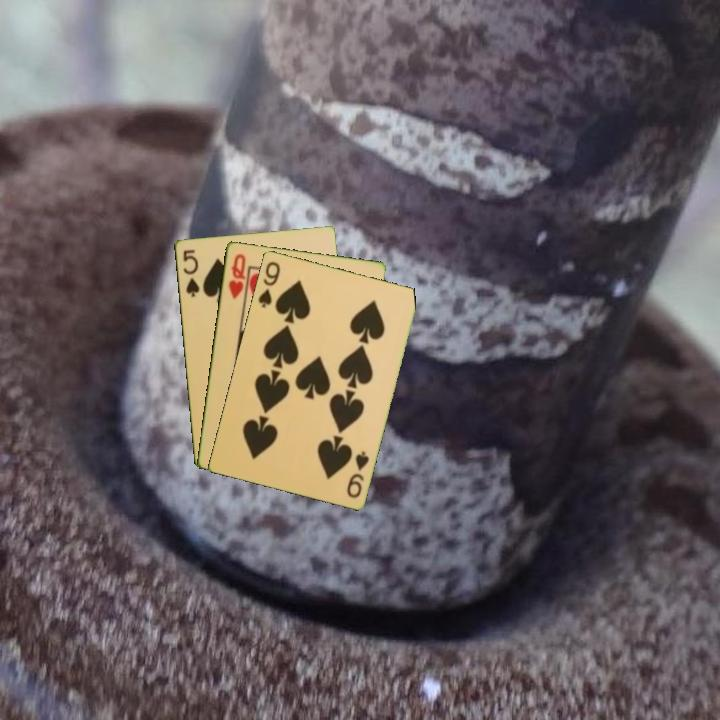5s: (179, 246, 202, 300)
9s: (343, 447, 372, 501), (254, 257, 283, 310)
Qh: (225, 250, 248, 301)
